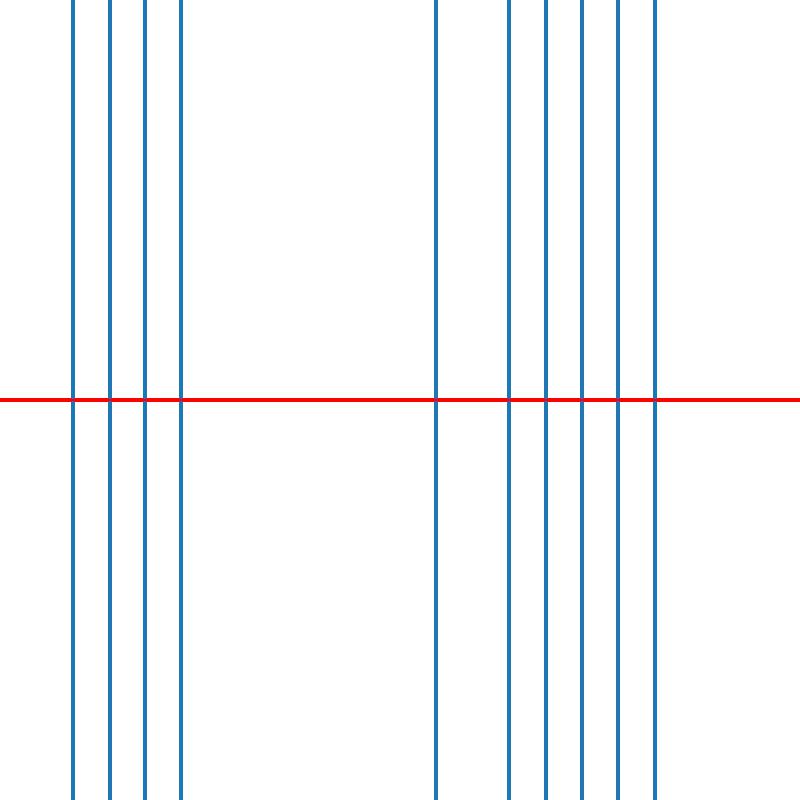root: (141, 396, 149, 404), (432, 396, 440, 404), (650, 396, 658, 404), (541, 396, 549, 404), (178, 396, 185, 404), (69, 396, 76, 404), (614, 396, 621, 404), (578, 396, 585, 404), (105, 396, 112, 404), (505, 396, 512, 404)
